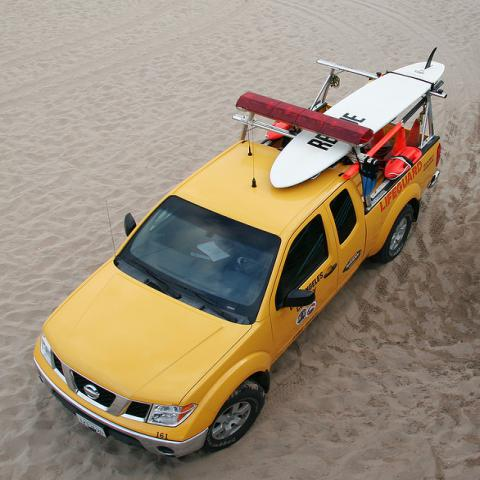truck: (30, 47, 447, 458)
